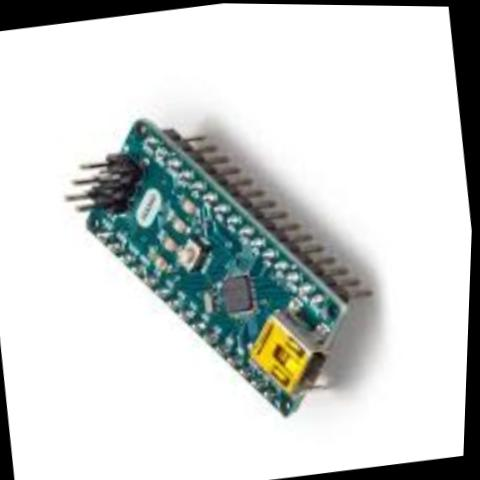Arduino-Nano: (37, 73, 413, 463)
